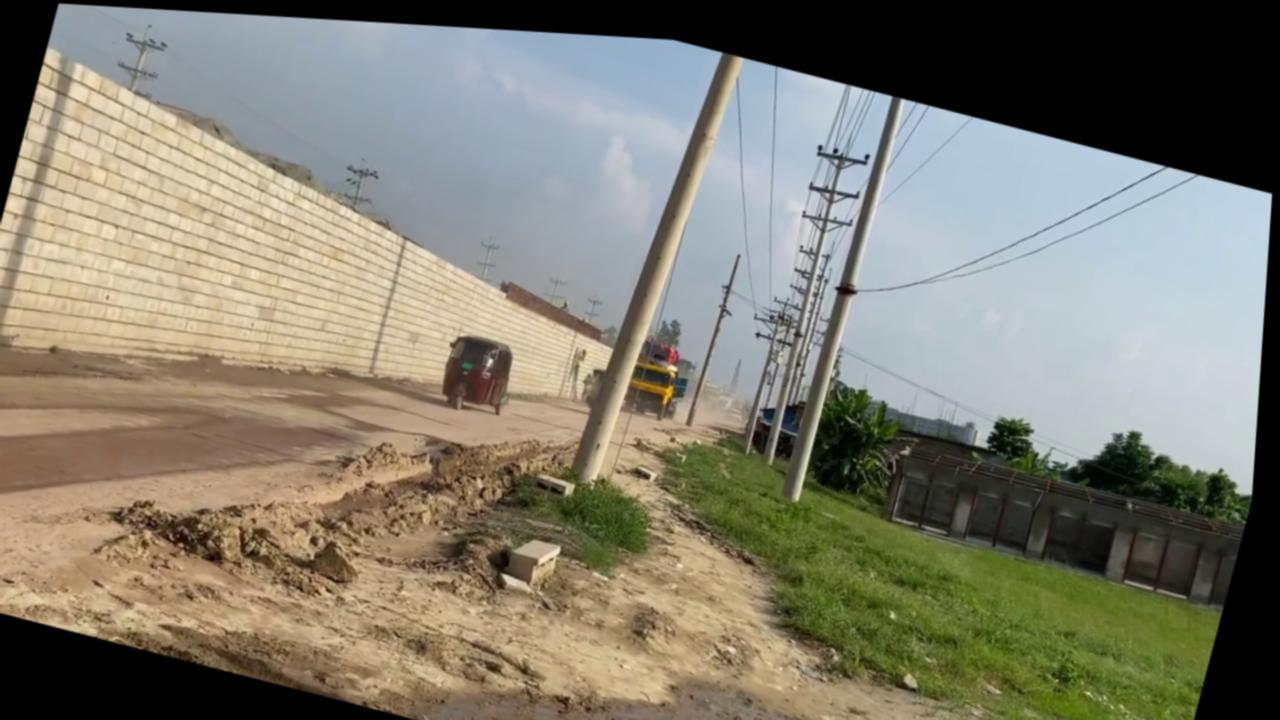Car: (438, 322, 526, 414)
Fence: (877, 422, 1254, 594)
Obstacle: (508, 524, 570, 583), (537, 464, 582, 494)
Pole: (571, 30, 745, 493), (783, 80, 907, 496), (689, 240, 744, 420)
Rickshaw: (0, 236, 1254, 720)
Traffic-sign: (986, 395, 1045, 452)
Tree: (625, 325, 692, 414)
Upstairs: (0, 41, 664, 488)
